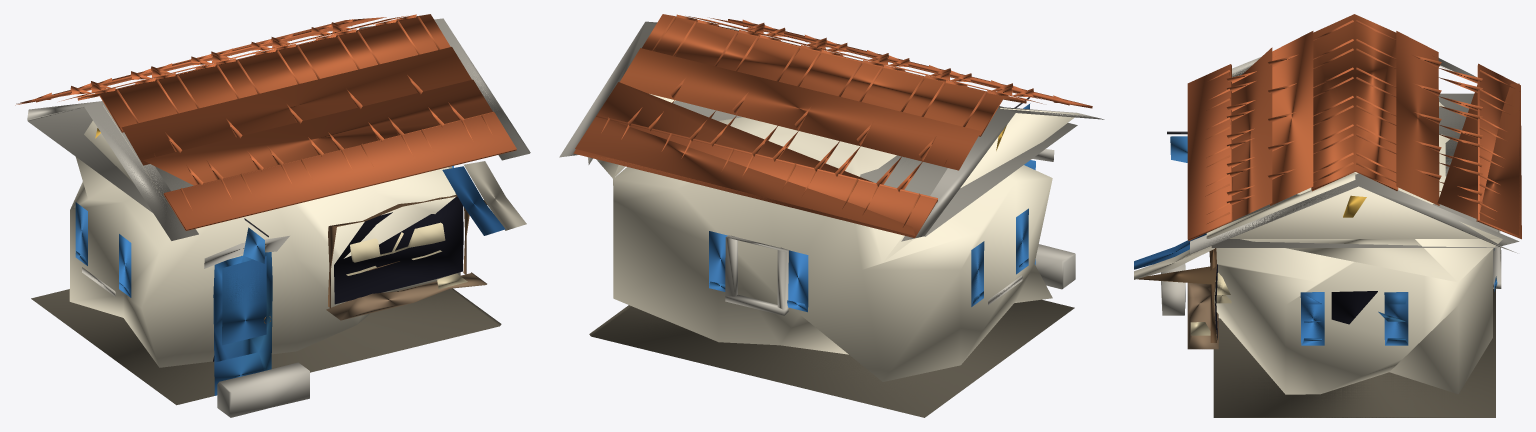
File: biz_scroll-shop_t1.glb
The picture shows the model from 3 angles, left to right: view 1: azimuth 30°, elevation 25°; view 2: azimuth 150°, elevation 25°; view 3: azimuth 270°, elevation 25°; orthographic projection. The views are drawn at different scales.
Parts seen in each view (by area): view 1: cream, terracotta0, terracotta2, stone_dark, marble, terracotta1, azure_wood, dark, wood, parchment, cloth_azure, cloth_cream (+1 smaller); view 2: cream, terracotta0, terracotta2, stone_dark, terracotta1, marble, azure_wood; view 3: cream, terracotta0, terracotta2, stone_dark, terracotta1, marble, azure_wood, wood, wood_dark, dark, cloth_cream, parchment (+1 smaller).
Part boxes in pixels (bbox=[...]): cream: bbox=[69, 105, 460, 367]; terracotta0: bbox=[15, 14, 516, 230]; terracotta2: bbox=[35, 16, 493, 198]; stone_dark: bbox=[31, 288, 501, 405]; marble: bbox=[27, 18, 530, 417]; terracotta1: bbox=[16, 17, 492, 185]; azure_wood: bbox=[75, 166, 453, 395]; dark: bbox=[213, 196, 463, 361]; wood: bbox=[326, 272, 486, 320]; parchment: bbox=[346, 222, 467, 289]; cloth_azure: bbox=[442, 166, 505, 235]; cloth_cream: bbox=[464, 161, 526, 230]; cream: bbox=[596, 94, 1078, 381]; terracotta0: bbox=[573, 14, 1092, 238]; terracotta2: bbox=[596, 16, 1069, 222]; stone_dark: bbox=[589, 299, 1074, 417]; terracotta1: bbox=[575, 17, 1044, 235]; marble: bbox=[559, 21, 1104, 315]; azure_wood: bbox=[709, 103, 1035, 312]; cream: bbox=[1206, 69, 1502, 394]; terracotta0: bbox=[1187, 14, 1521, 240]; terracotta2: bbox=[1206, 31, 1511, 221]; stone_dark: bbox=[1213, 289, 1495, 417]; terracotta1: bbox=[1232, 47, 1519, 235]; marble: bbox=[1161, 57, 1519, 315]; azure_wood: bbox=[1170, 136, 1497, 345]; wood: bbox=[1187, 283, 1218, 349]; wood_dark: bbox=[1137, 248, 1216, 342]; dark: bbox=[1215, 264, 1377, 339]; cloth_cream: bbox=[1134, 246, 1214, 279]; parchment: bbox=[1190, 272, 1231, 335].
Size of the model in its own units: 6.08 by 4.21 by 5.89.
